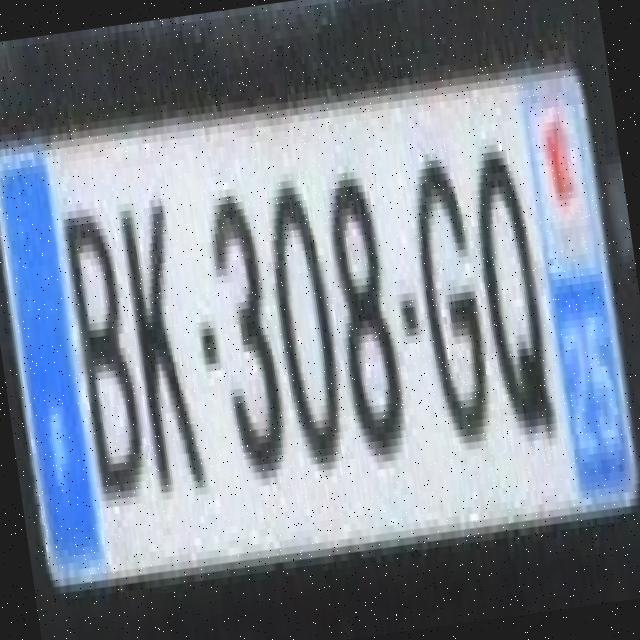EU: (0, 67, 640, 589)
France: (0, 157, 103, 572)
